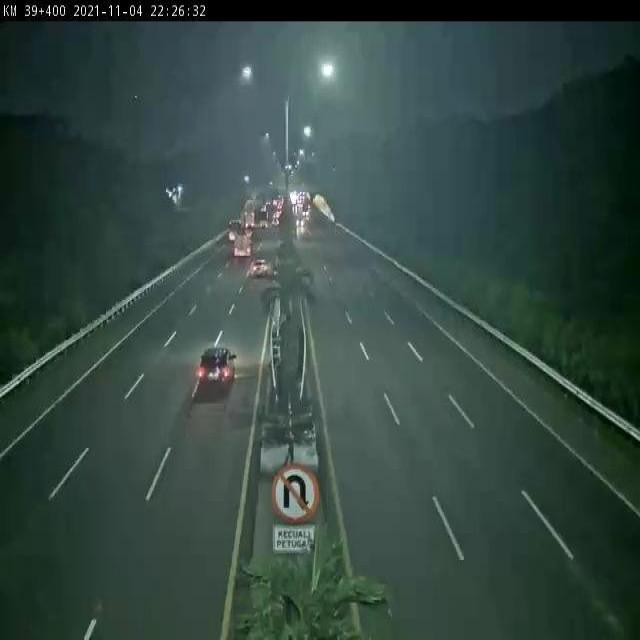car: (185, 336, 241, 399), (248, 256, 274, 283)
truck-xl-: (227, 228, 259, 259)
